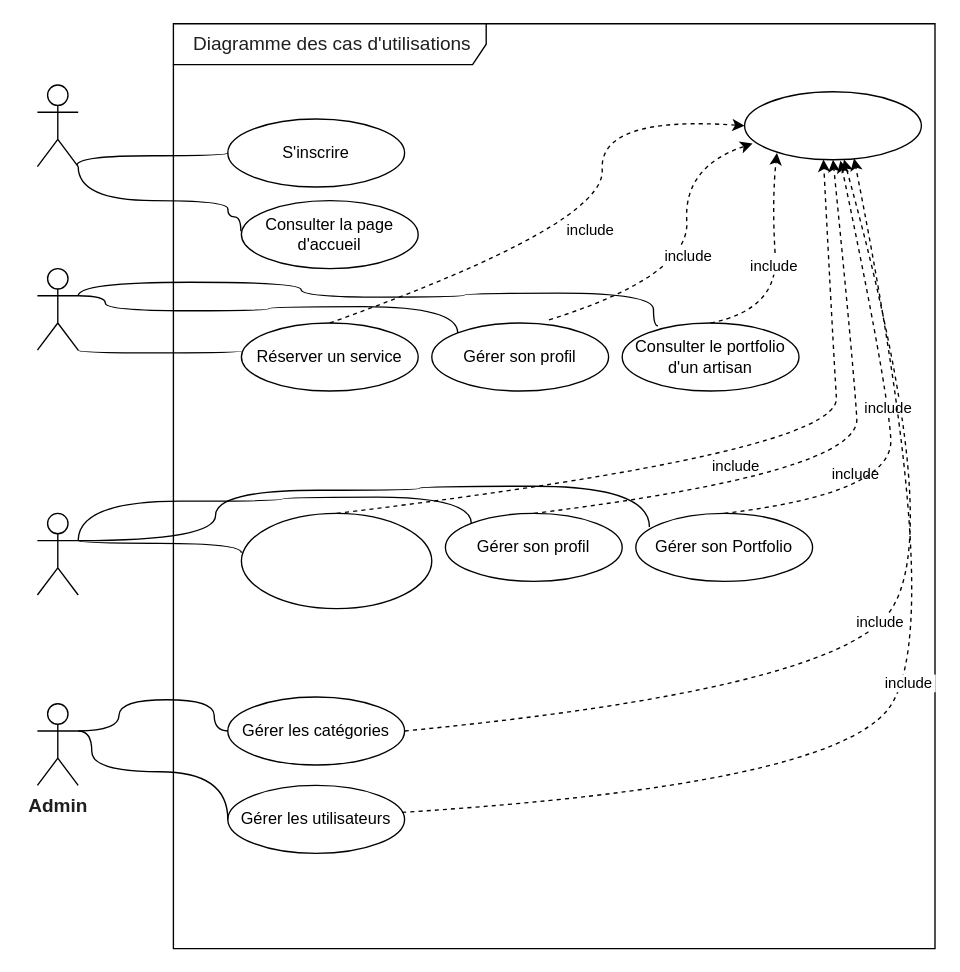
Image size: 960x972. Some labels were removed from this diagram. The centre of each missing label's shape, as x and y in pixels:
"Artisan" belongs at point (57, 553).
"Auth" belongs at point (832, 125).
"Client" belongs at point (57, 308).
"Gérer les demandes de réservation" belongs at point (336, 560).
"Visiteur" belongs at point (57, 125).
